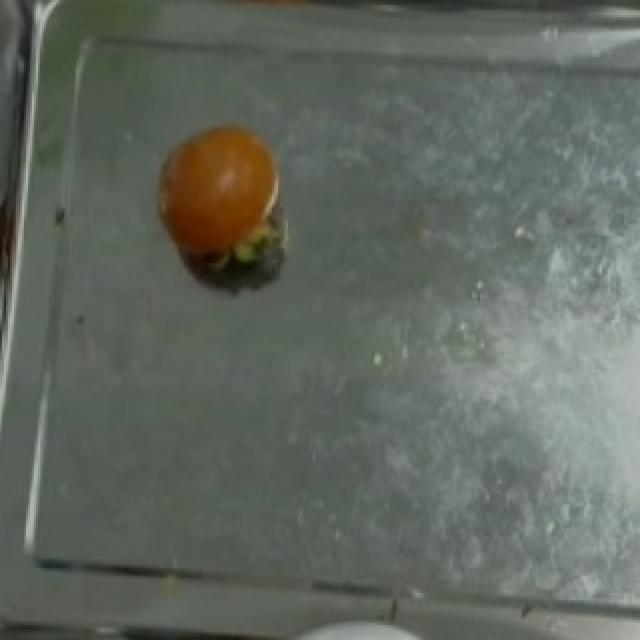Fruit: (150, 114, 288, 270)
